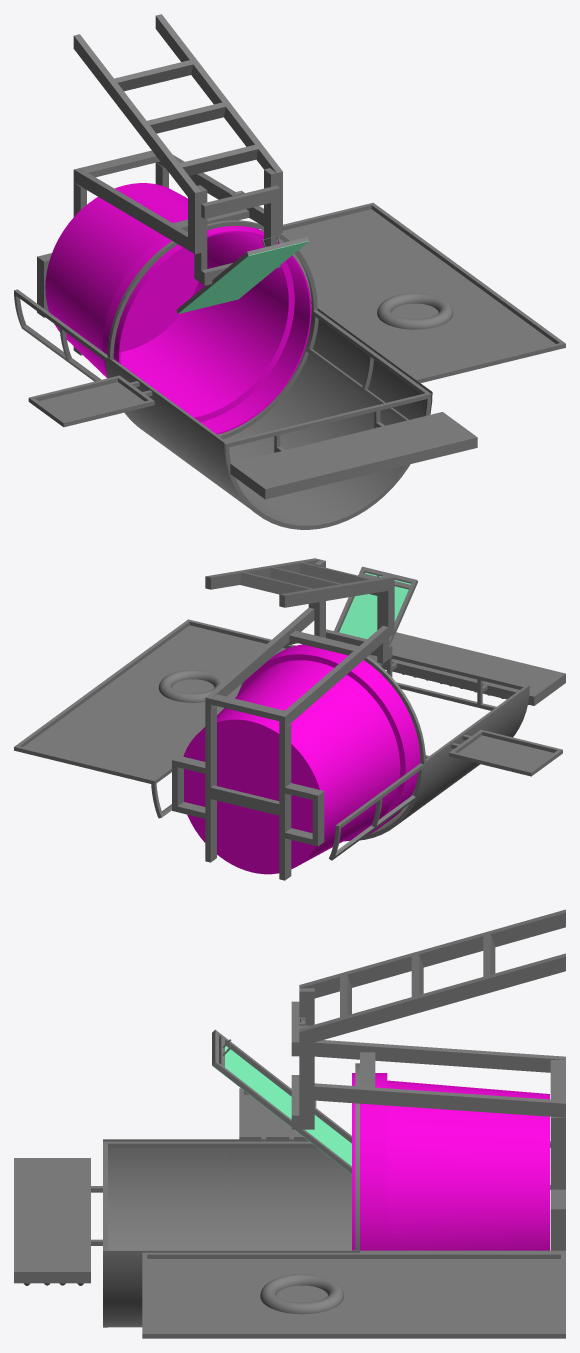
Rendered from Modelado Hombre al agua en FBX.fbx.
The picture shows the model from 3 angles, top to bottom: view 1: azimuth 30°, elevation 25°; view 2: azimuth 150°, elevation 25°; view 3: azimuth 270°, elevation 25°; orthographic projection. The views are drawn at different scales.
Parts seen in each view (by area): view 1: Objeto_89, Objeto_75, Objeto_72, Objeto_12, Objeto_37, Objeto_38, Objeto_74, Objeto_43, Objeto_91, Objeto_73, Objeto_92, Objeto_67 (+14 smaller); view 2: Objeto_89, Objeto_75, Objeto_12, Objeto_37, Objeto_72, Objeto_38, Objeto_74, Objeto_87, Objeto_91, Objeto_88, Objeto_117, Objeto_92 (+18 smaller); view 3: Objeto_89, Objeto_75, Objeto_72, Objeto_38, Objeto_12, Objeto_37, Objeto_74, Objeto_116, Objeto_73, Objeto_117, Objeto_45, Objeto_91 (+11 smaller).
Boxes of the visible parts, bbox=[...] form: Objeto_89: bbox=[45, 183, 311, 434]; Objeto_75: bbox=[277, 209, 565, 382]; Objeto_72: bbox=[107, 308, 432, 528]; Objeto_12: bbox=[230, 412, 477, 499]; Objeto_37: bbox=[73, 34, 201, 254]; Objeto_38: bbox=[155, 14, 282, 234]; Objeto_74: bbox=[261, 202, 565, 382]; Objeto_43: bbox=[107, 220, 317, 438]; Objeto_91: bbox=[31, 382, 151, 427]; Objeto_73: bbox=[377, 293, 453, 329]; Objeto_92: bbox=[28, 375, 154, 426]; Objeto_67: bbox=[224, 392, 431, 529]; Objeto_89: bbox=[183, 644, 420, 874]; Objeto_75: bbox=[16, 625, 286, 783]; Objeto_12: bbox=[381, 632, 565, 705]; Objeto_37: bbox=[279, 576, 394, 728]; Objeto_72: bbox=[349, 685, 529, 840]; Objeto_38: bbox=[205, 558, 320, 710]; Objeto_74: bbox=[14, 619, 295, 783]; Objeto_87: bbox=[279, 723, 291, 880]; Objeto_91: bbox=[449, 735, 561, 776]; Objeto_88: bbox=[205, 706, 216, 862]; Objeto_117: bbox=[339, 572, 416, 643]; Objeto_92: bbox=[449, 729, 562, 776]; Objeto_89: bbox=[352, 1073, 549, 1250]; Objeto_75: bbox=[142, 1259, 565, 1338]; Objeto_72: bbox=[103, 1139, 359, 1327]; Objeto_38: bbox=[299, 953, 565, 1117]; Objeto_12: bbox=[14, 1158, 90, 1283]; Objeto_37: bbox=[299, 909, 565, 1072]; Objeto_74: bbox=[142, 1252, 565, 1338]; Objeto_116: bbox=[212, 1029, 351, 1173]; Objeto_73: bbox=[260, 1274, 344, 1314]; Objeto_117: bbox=[212, 1046, 291, 1127]; Objeto_45: bbox=[108, 1141, 317, 1147]; Objeto_91: bbox=[244, 1094, 300, 1134].
Size of the model in its own units: 302 by 219 by 287.
